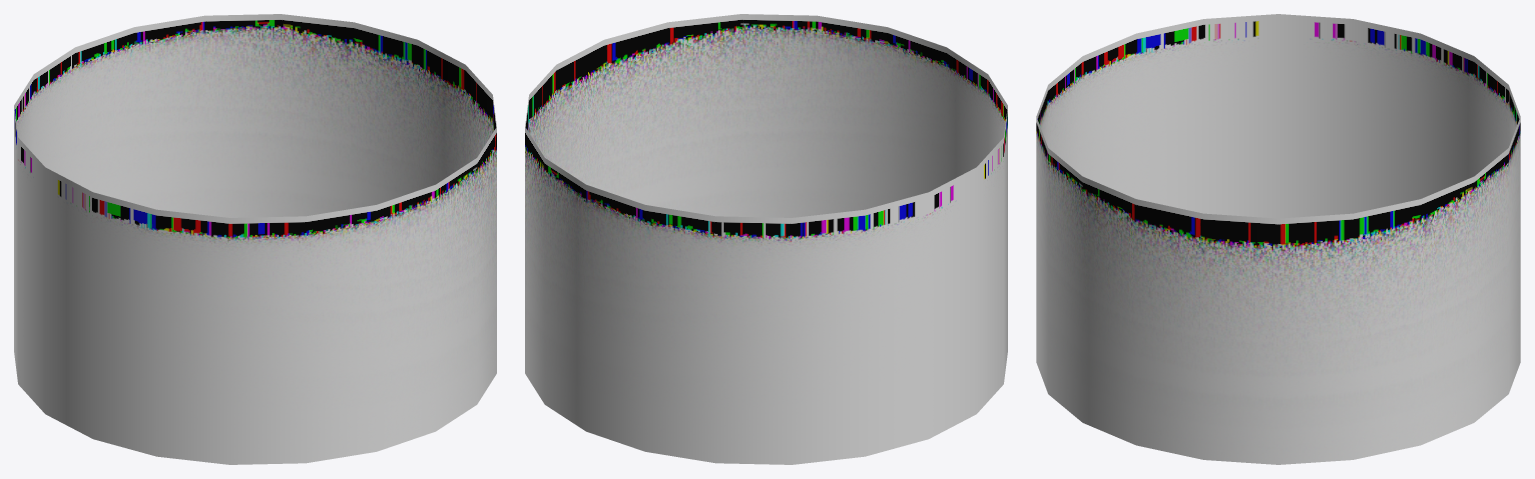
Rendered from CylinderIndicator.fbx.
3 views of the same model, side by side, from view 1: azimuth 30°, elevation 25°; view 2: azimuth 150°, elevation 25°; view 3: azimuth 270°, elevation 25° (orthographic).
Visible parts, largest first — view 1: pCylinder1; view 2: pCylinder1; view 3: pCylinder1.
Part boxes in pixels (x1,y1,x2,y2): pCylinder1: (14, 14, 496, 464); pCylinder1: (525, 14, 1007, 464); pCylinder1: (1036, 14, 1520, 464).
Bounding box in the file's own units: 11.14 × 6.26 × 11.14.
